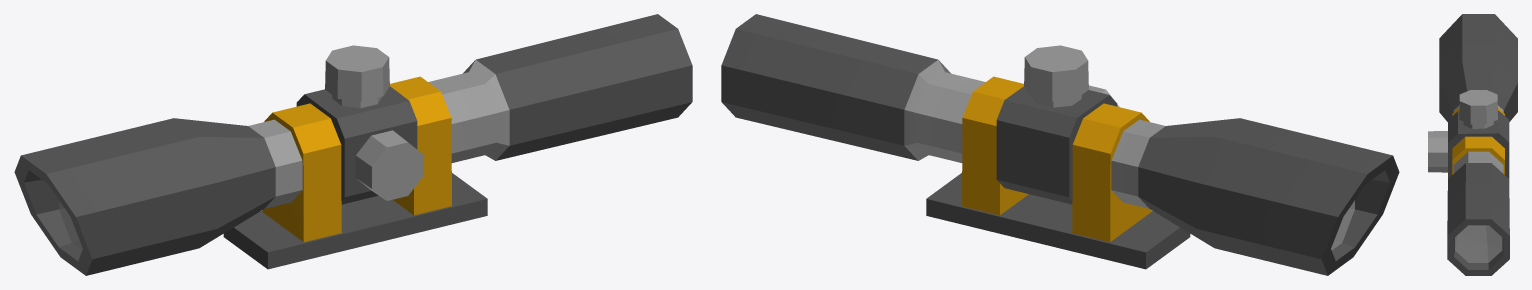
File: SM_Scope02.fbx
3 renders of one model, left to right at view 1: azimuth 30°, elevation 25°; view 2: azimuth 150°, elevation 25°; view 3: azimuth 270°, elevation 25°, orthographic. The views are drawn at different scales.
Visible parts, largest first — view 1: SM_Scope02; view 2: SM_Scope02; view 3: SM_Scope02.
Boxes of the visible parts, box(x1,y1,x2,y2) form: SM_Scope02: box(14, 14, 692, 275); SM_Scope02: box(721, 14, 1399, 275); SM_Scope02: box(1428, 14, 1517, 275).
Bounding box in the file's own units: 26.79 × 6.75 × 5.14.
